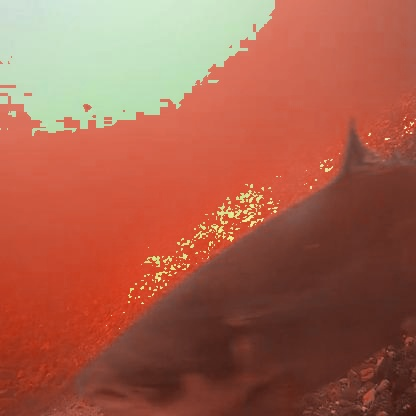salmon: (71, 106, 415, 416)
